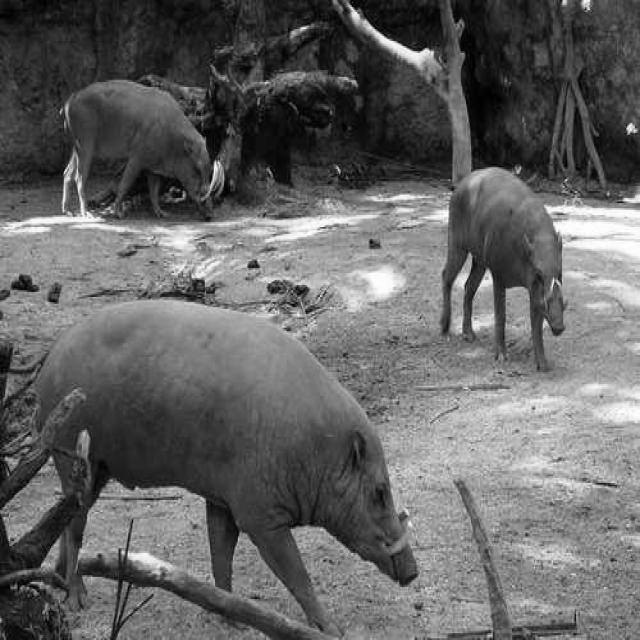boar: (40, 299, 415, 630), (440, 166, 562, 367), (60, 79, 221, 215)
